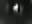person: (14, 4, 19, 16), (20, 6, 25, 17)
